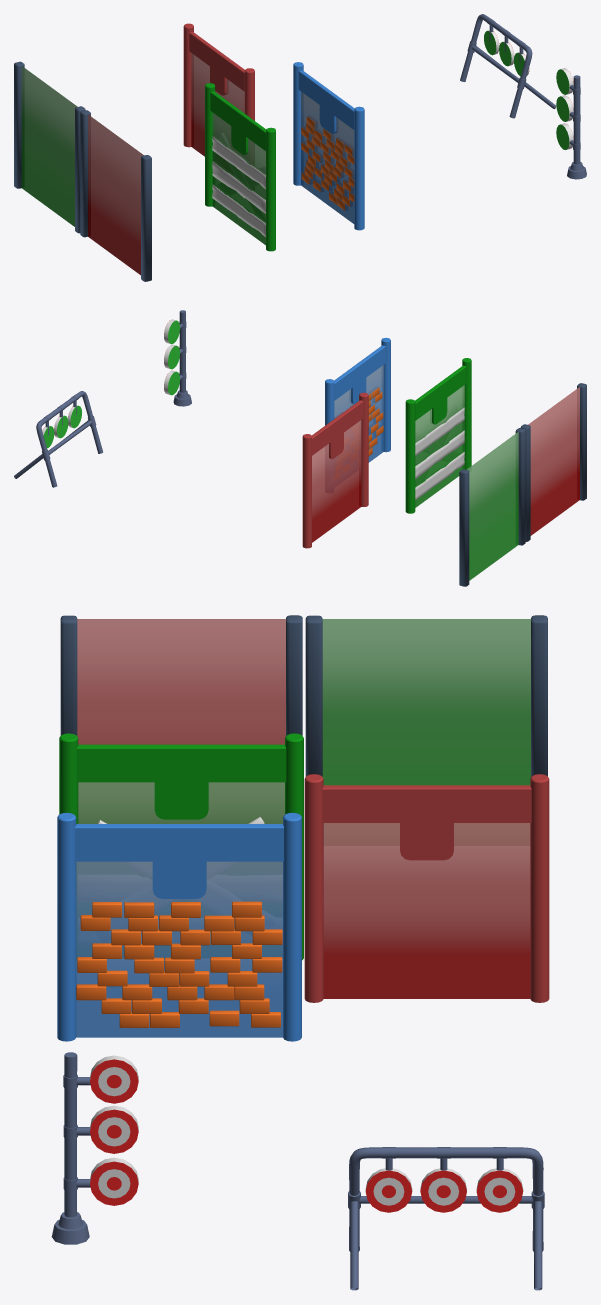
File: Obsatcles.fbx
3 views of the same model, one above another, from view 1: azimuth 30°, elevation 25°; view 2: azimuth 150°, elevation 25°; view 3: azimuth 270°, elevation 25° (orthographic). The views are drawn at different scales.
Parts seen in each view (by area): view 1: Plane, Plane.001, Plane.008, Plane.005, Plane.006, NurbsPath.004, Cube.083, Cube.040, Cube.042, Cube.041, Cube.098, Cube.081 (+1 smaller); view 2: Plane.001, Plane.006, Plane, Plane.005, Plane.008, NurbsPath.004, Cube.083, Cube.040, Cube.042, Cube.041; view 3: Plane.006, Plane.001, Plane.008, Plane, Plane.005, NurbsPath.004, Cube.083, Cube.099, Cube.097, Cube.101, Cube.110, Cube.090 (+1 smaller).
Boxes of the visible parts, bbox=[...] form: Plane: bbox=[80, 110, 151, 281]; Plane.001: bbox=[14, 61, 85, 233]; Plane.008: bbox=[293, 62, 364, 230]; Plane.005: bbox=[205, 83, 275, 251]; Plane.006: bbox=[183, 23, 254, 156]; NurbsPath.004: bbox=[460, 14, 556, 118]; Cube.083: bbox=[567, 75, 586, 179]; Cube.040: bbox=[212, 136, 265, 189]; Cube.042: bbox=[212, 184, 265, 236]; Cube.041: bbox=[212, 161, 265, 213]; Cube.098: bbox=[556, 123, 573, 149]; Cube.081: bbox=[556, 95, 573, 121]; Plane.001: bbox=[459, 428, 525, 586]; Plane.006: bbox=[302, 392, 368, 548]; Plane: bbox=[520, 383, 586, 541]; Plane.005: bbox=[405, 358, 471, 513]; Plane.008: bbox=[325, 337, 390, 462]; NurbsPath.004: bbox=[14, 391, 102, 487]; Cube.083: bbox=[173, 310, 191, 406]; Cube.040: bbox=[415, 407, 464, 455]; Cube.042: bbox=[415, 452, 464, 500]; Cube.041: bbox=[415, 430, 464, 479]; Plane.006: bbox=[304, 774, 549, 1002]; Plane.001: bbox=[305, 615, 547, 785]; Plane.008: bbox=[57, 812, 301, 1041]; Plane: bbox=[60, 615, 302, 744]; Plane.005: bbox=[59, 733, 303, 960]; NurbsPath.004: bbox=[348, 1147, 544, 1290]; Cube.083: bbox=[51, 1052, 89, 1244]; Cube.099: bbox=[90, 1059, 138, 1103]; Cube.097: bbox=[90, 1109, 138, 1153]; Cube.101: bbox=[90, 1161, 138, 1205]; Cube.110: bbox=[476, 1170, 523, 1212]; Cube.090: bbox=[365, 1170, 412, 1212].
Bounding box in the file's own units: 1.23 × 0.3043 × 0.5836.
